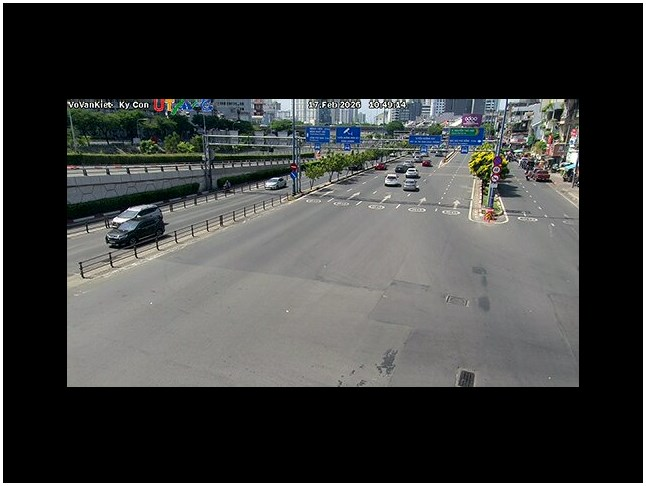car: (104, 203, 167, 248), (403, 170, 420, 192), (264, 176, 287, 190), (531, 168, 551, 182), (384, 174, 401, 186)
